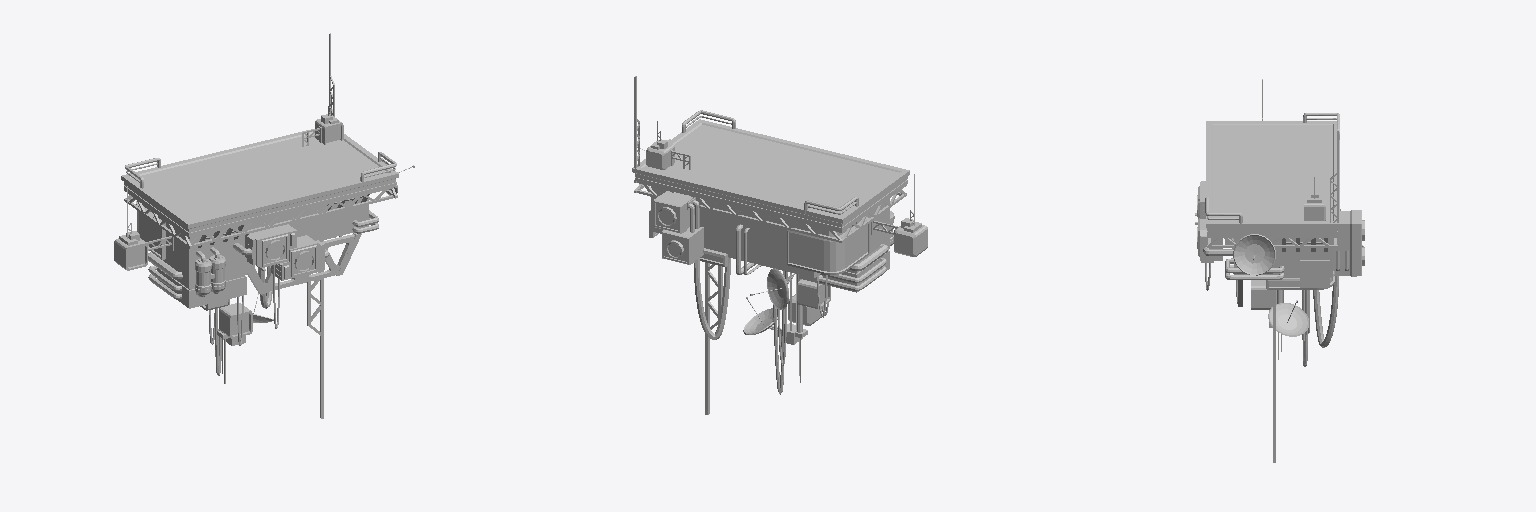
Rendered from Platform_4x2_Cube.obj.
The picture shows the model from 3 angles: view 1: azimuth 30°, elevation 25°; view 2: azimuth 150°, elevation 25°; view 3: azimuth 270°, elevation 25°; orthographic projection.
Visible parts, largest first — view 1: Platform_4x2_Cube.076; view 2: Platform_4x2_Cube.076; view 3: Platform_4x2_Cube.076.
Part boxes in pixels (x1,y1,x2,y2): Platform_4x2_Cube.076: (114, 33, 414, 418); Platform_4x2_Cube.076: (632, 76, 927, 414); Platform_4x2_Cube.076: (1195, 79, 1364, 462).
Bounding box in the file's own units: 5.32 × 6.16 × 2.71.